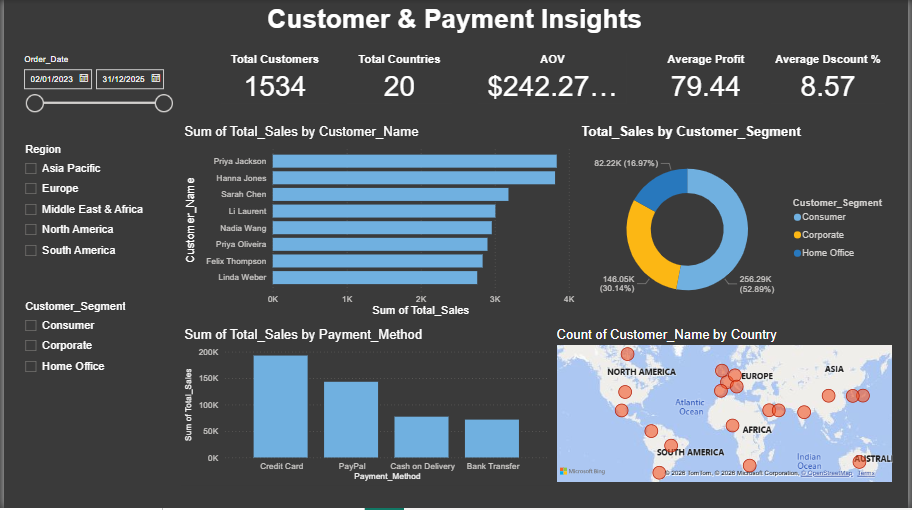

The page's visual inventory and layout, read from the dashboard file:
{"tool":"powerbi","page":{"name":"Customer & Payment Insights","canvas":[1280,720],"ordinal":1},"visuals":[{"type":"textbox","box":[15.1,0,1246.4,63.8],"z":0},{"type":"card","title":"Total Customers","fields":{"Values":["Count(sales_data.Customer_Name)"]},"box":[307.6,75.1,153.1,72.3],"z":1000},{"type":"donutChart","title":"Total_Sales by Customer_Segment","fields":{"Category":["sales_data.Customer_Segment"],"Y":["Sum(sales_data.Total_Sales)"]},"box":[813.5,175.7,450.7,277.8],"z":2000},{"type":"barChart","fields":{"Category":["sales_data.Customer_Name"],"Y":["Sum(sales_data.Total_Sales)"]},"box":[250.9,175.7,562.7,277.8],"z":3000},{"type":"clusteredColumnChart","fields":{"Category":["sales_data.Payment_Method"],"Y":["Sum(sales_data.Total_Sales)"]},"box":[250.9,463.5,527.2,223.9],"z":4000},{"type":"map","fields":{"Category":["sales_data.Country"]},"box":[778.1,463.5,486.1,223.9],"z":5000},{"type":"card","title":"AOV","fields":{"Values":["sales_data.AOV"]},"box":[671.8,75.1,211.2,72.3],"z":6000},{"type":"card","title":"Total Countries","fields":{"Values":["Count(sales_data.Country)"]},"box":[486.1,75.1,148.8,72.3],"z":7000},{"type":"card","title":"Average Profit","fields":{"Values":["Avg(sales_data.Profit)"]},"box":[914.2,75.1,161.6,72.3],"z":8000},{"type":"slicer","fields":{"Values":["sales_data.Region"]},"box":[17,198.4,233.9,184.3],"z":9000},{"type":"slicer","fields":{"Values":["sales_data.Order_Date"]},"box":[15.6,72.3,232.4,96.4],"z":9001},{"type":"slicer","fields":{"Values":["sales_data.Customer_Segment"]},"box":[17,420.9,231,154.5],"z":9002},{"type":"card","title":"Average Dscount %","fields":{"Values":["Avg(sales_data.Discount_Percent)"]},"box":[1087.1,75.1,161.6,72.3],"z":9003}]}

Visuals, with their boxes in screenshot pixels (x1, y1, x2, y2), scaled from the page's 1280x720 canvas onto the 912x510 screenshot:
textbox: {"left": 11, "top": 0, "right": 899, "bottom": 45}
"Total Customers" card: {"left": 219, "top": 53, "right": 328, "bottom": 104}
"Total_Sales by Customer_Segment" donutChart: {"left": 580, "top": 124, "right": 901, "bottom": 321}
barChart - sales_data.Customer_Name x Sum(sales_data.Total_Sales): {"left": 179, "top": 124, "right": 580, "bottom": 321}
clusteredColumnChart - sales_data.Payment_Method x Sum(sales_data.Total_Sales): {"left": 179, "top": 328, "right": 554, "bottom": 487}
map - sales_data.Country: {"left": 554, "top": 328, "right": 901, "bottom": 487}
"AOV" card: {"left": 479, "top": 53, "right": 629, "bottom": 104}
"Total Countries" card: {"left": 346, "top": 53, "right": 452, "bottom": 104}
"Average Profit" card: {"left": 651, "top": 53, "right": 767, "bottom": 104}
slicer - sales_data.Region: {"left": 12, "top": 141, "right": 179, "bottom": 271}
slicer - sales_data.Order_Date: {"left": 11, "top": 51, "right": 177, "bottom": 119}
slicer - sales_data.Customer_Segment: {"left": 12, "top": 298, "right": 177, "bottom": 408}
"Average Dscount %" card: {"left": 775, "top": 53, "right": 890, "bottom": 104}
